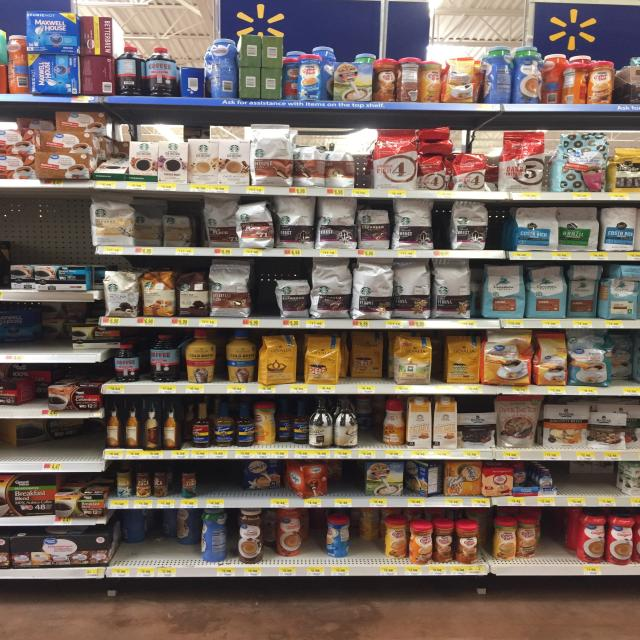void: (540, 508, 574, 560), (200, 463, 238, 496), (330, 460, 360, 496)
